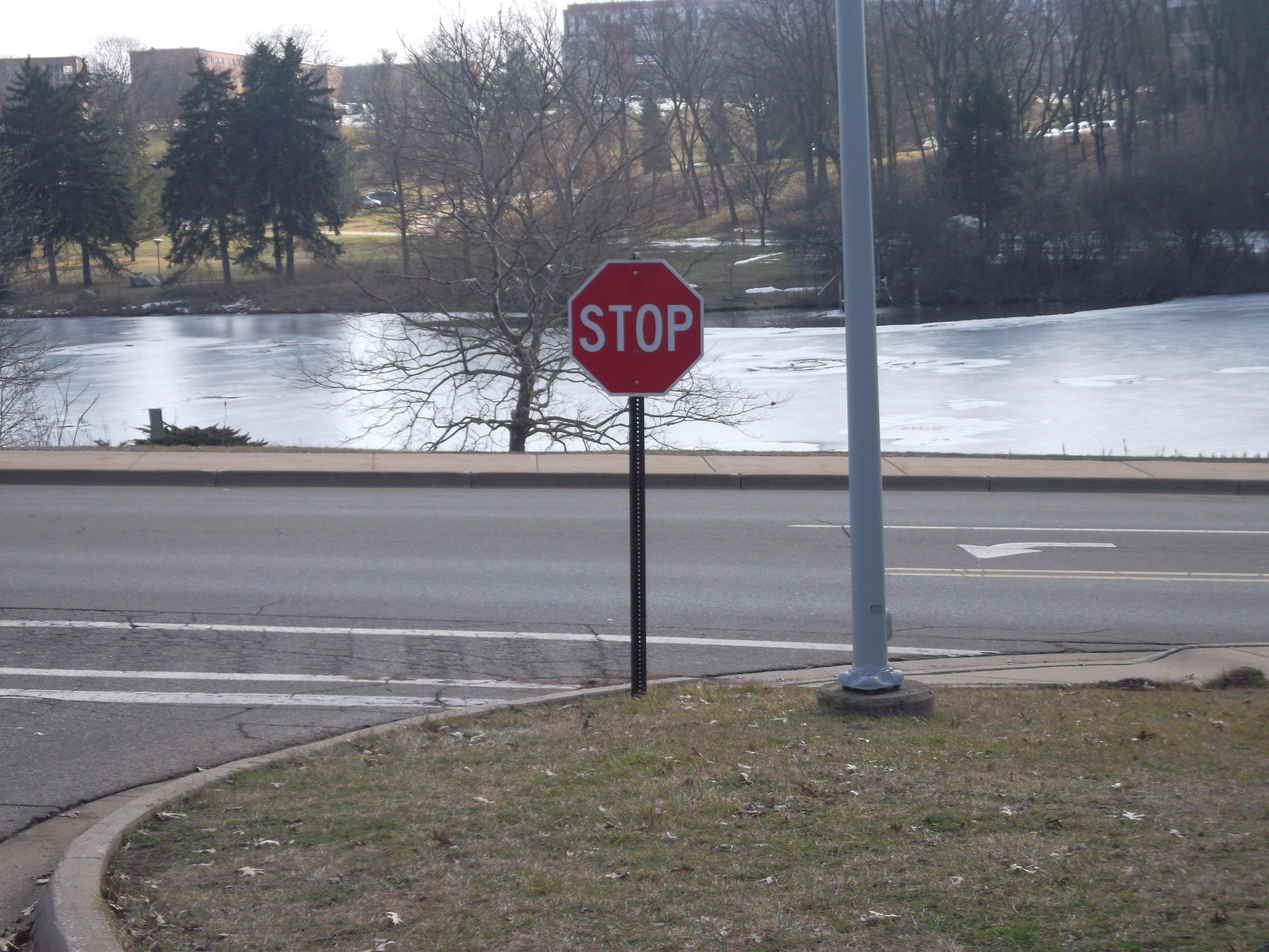Stop: (572, 263, 704, 394)
